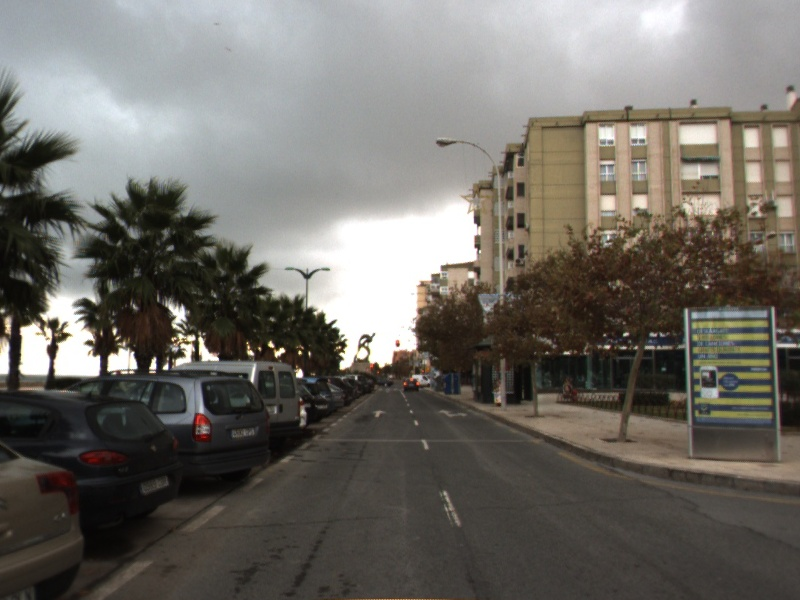STRAIGHT: (370, 408, 389, 419)
STRAIGHT_RIGHT: (436, 407, 470, 420)
